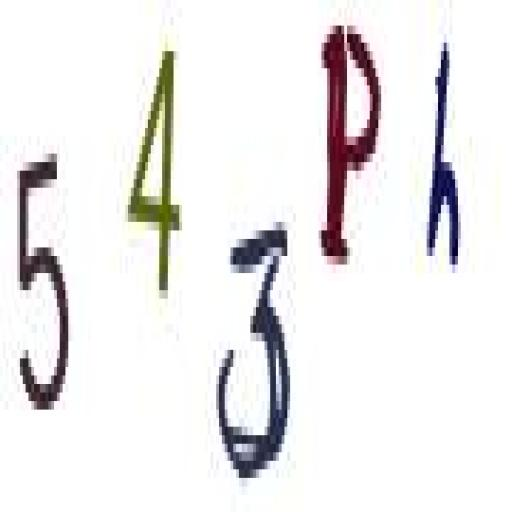3: (212, 205, 297, 492)
4: (124, 23, 184, 319)
5: (13, 147, 76, 429)
P: (318, 16, 385, 282)
h: (421, 19, 465, 284)
